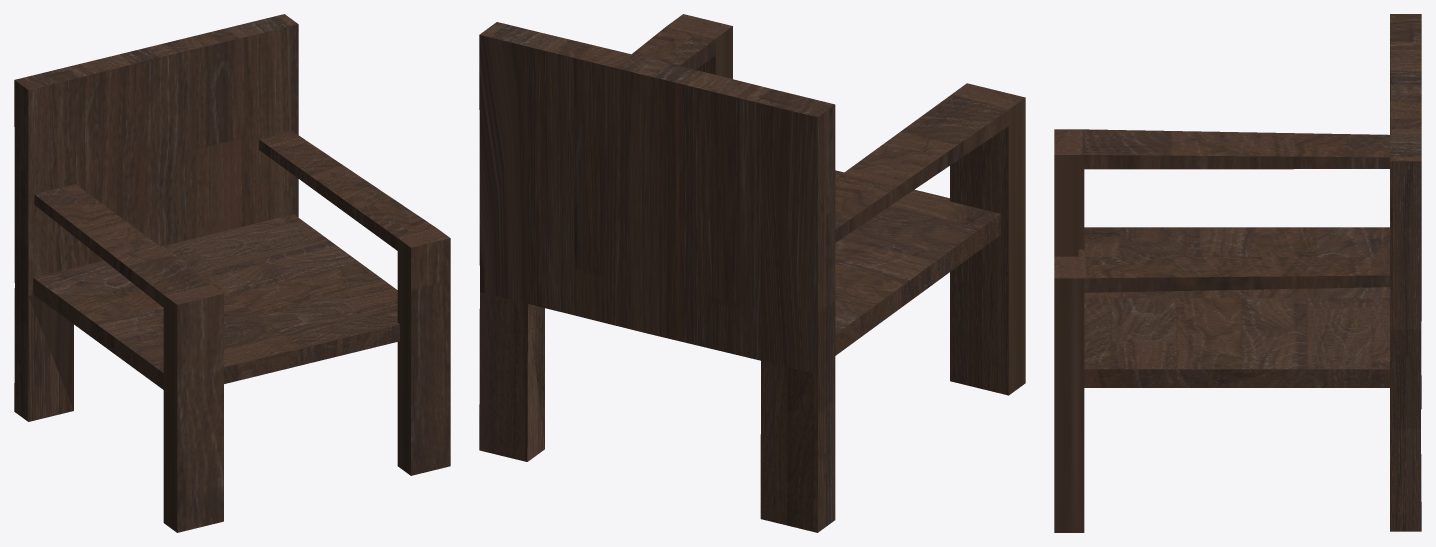
The model's file is Iglesia-Silla2.fbx.
The picture shows the model from 3 angles, left to right: view 1: azimuth 30°, elevation 25°; view 2: azimuth 150°, elevation 25°; view 3: azimuth 270°, elevation 25°; orthographic projection. The views are drawn at different scales.
Parts seen in each view (by area): view 1: Silla2; view 2: Silla2; view 3: Silla2.
Boxes of the visible parts, x1,y1,x2,y2 form: Silla2: (14, 14, 450, 532); Silla2: (479, 14, 1025, 532); Silla2: (1054, 14, 1421, 532).
Size of the model in its own units: 0.7321 by 0.8522 by 0.7629.
